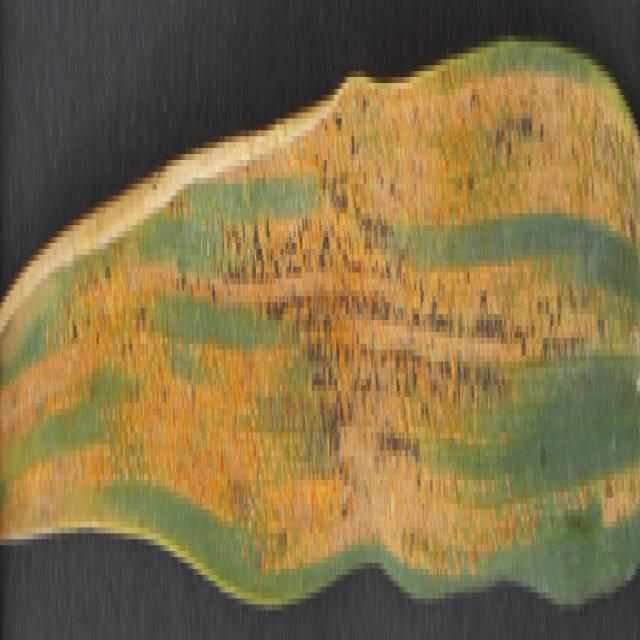leaf rust: (1, 41, 639, 586)
